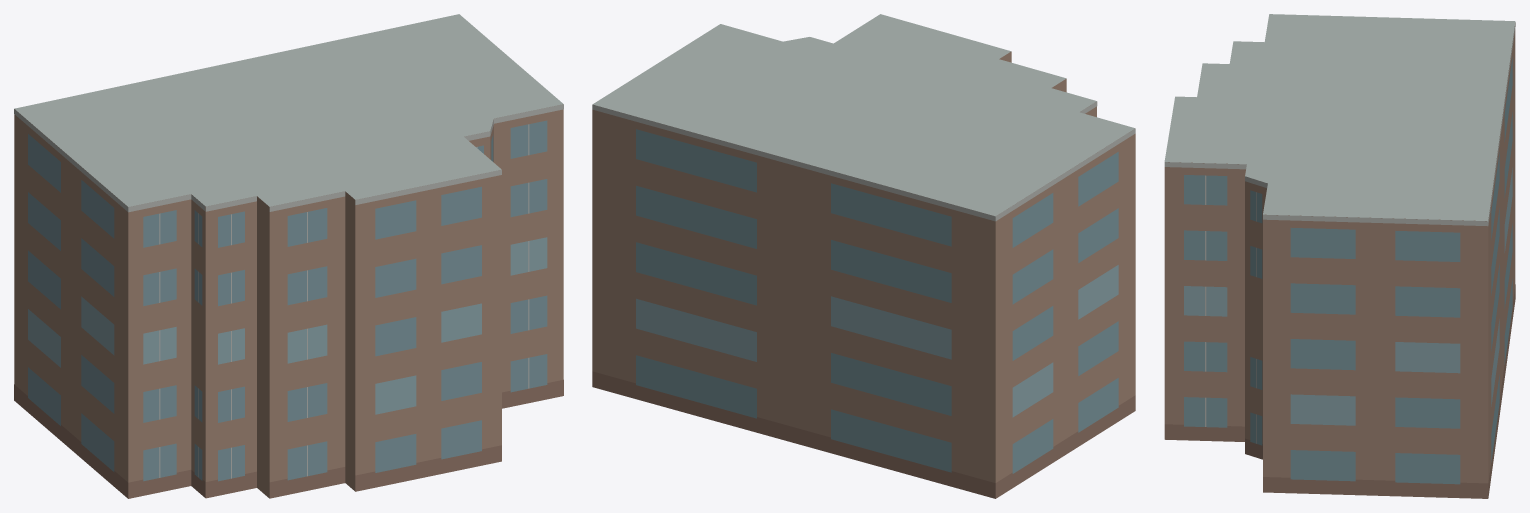
The model's file is survey-upis-32746517.glb.
3 views of the same model, side by side, from view 1: azimuth 30°, elevation 25°; view 2: azimuth 150°, elevation 25°; view 3: azimuth 270°, elevation 25° (orthographic). The views are drawn at different scales.
Visible parts, largest first — view 1: survey-upis-32746517.tmp; view 2: survey-upis-32746517.tmp; view 3: survey-upis-32746517.tmp.
Boxes of the visible parts, left/top/right/bottom form: survey-upis-32746517.tmp: left=14, top=14, right=563, bottom=498; survey-upis-32746517.tmp: left=592, top=14, right=1135, bottom=498; survey-upis-32746517.tmp: left=1164, top=14, right=1515, bottom=498.
Bounding box in the file's own units: 21.6 × 13.5 × 15.47.
